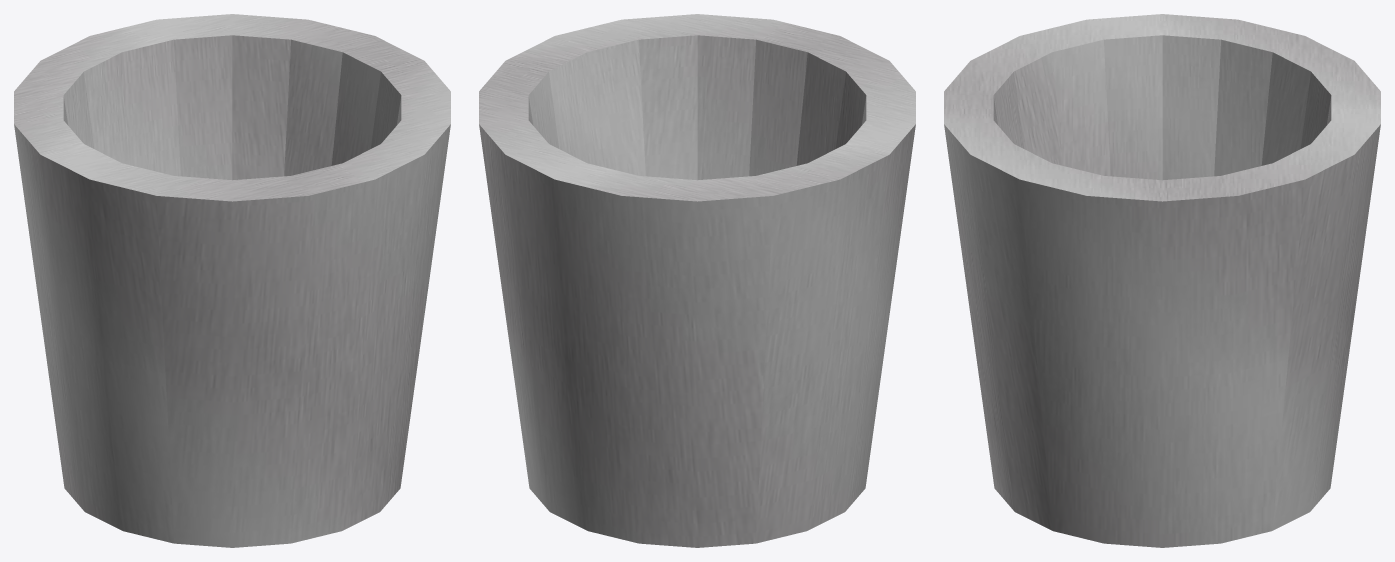
File: LivingQuarters_TrashCan_Unwrapped.fbx
3 renders of one model, left to right at view 1: azimuth 30°, elevation 25°; view 2: azimuth 150°, elevation 25°; view 3: azimuth 270°, elevation 25°, orthographic.
Parts seen in each view (by area): view 1: TrashCan001; view 2: TrashCan001; view 3: TrashCan001.
Boxes of the visible parts, bbox=[...] form: TrashCan001: bbox=[14, 14, 450, 547]; TrashCan001: bbox=[479, 14, 915, 547]; TrashCan001: bbox=[944, 14, 1380, 547].
Size of the model in its own units: 31.9 by 29.2 by 31.42.
